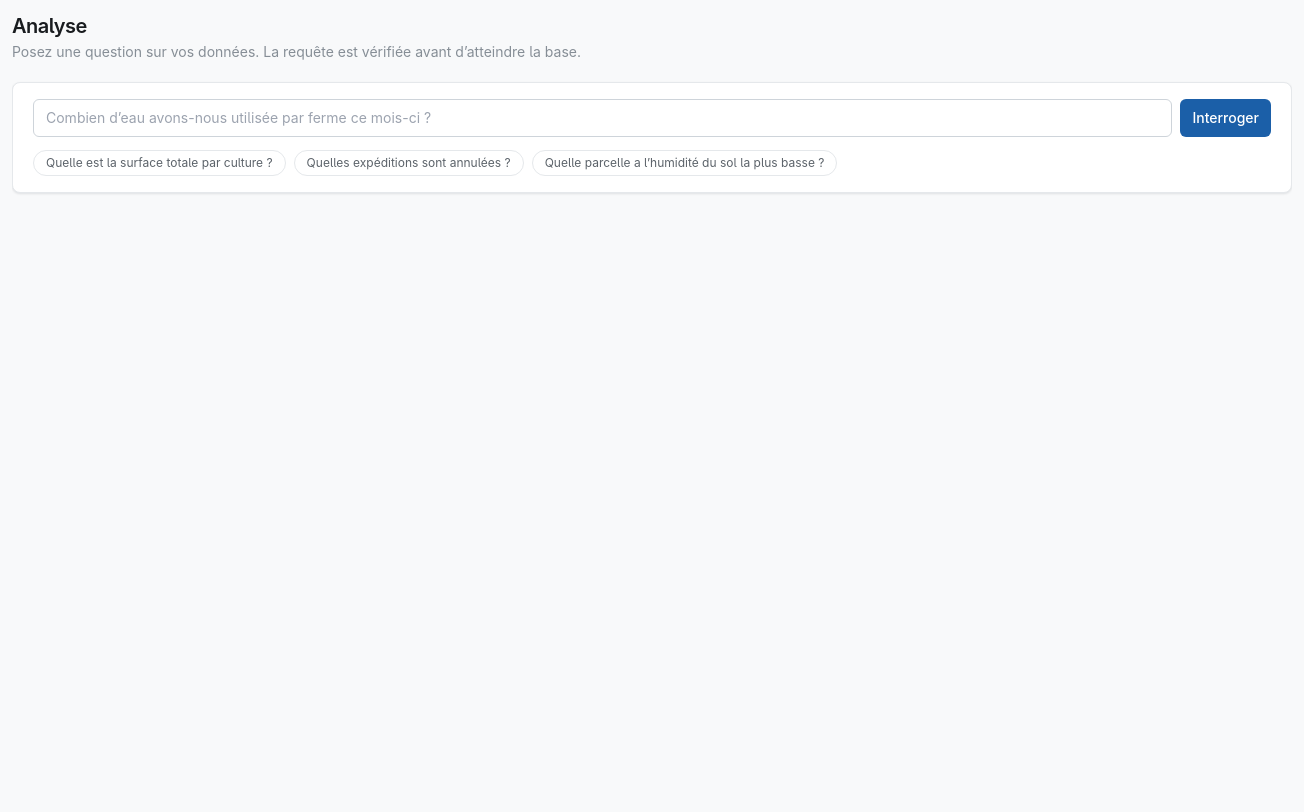
Test case: le résultat › affiche les lignes avant la lecture faite par le modèle
Click the button "Quelle est la surface totale par culture ?": click(159, 163) [33, 150, 286, 176]
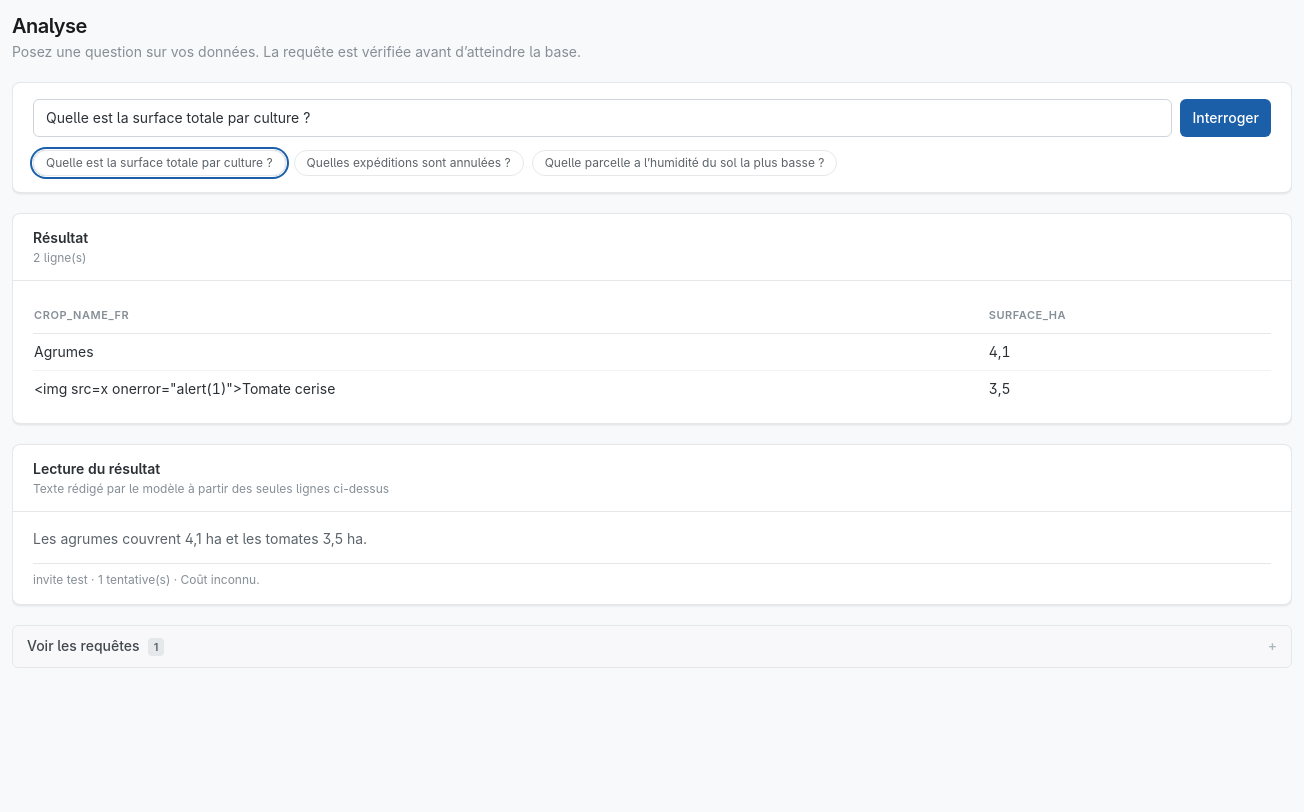
Check: the text "Agrumes" is shown, box [33, 334, 988, 370]
Check: the text "Résultat" is shown, box [33, 229, 88, 246]
Check: the text "Lecture du résultat" is shown, box [33, 460, 160, 477]
